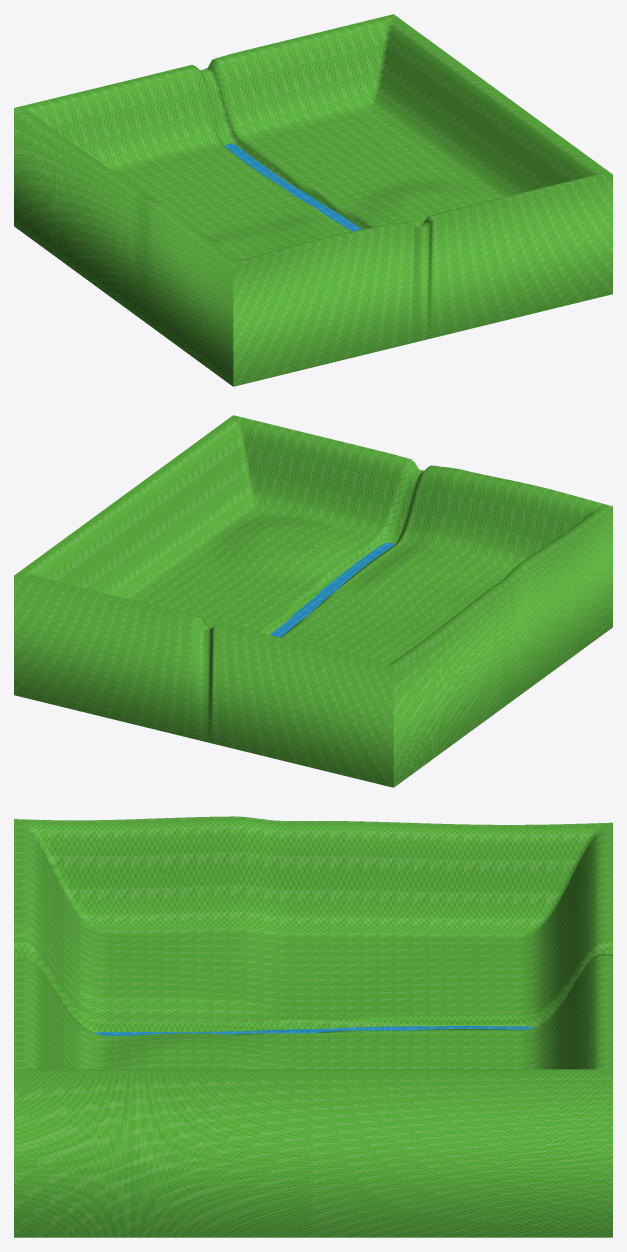
The model's file is asian_fantasy_terrain.glb.
3 renders of one model, top to bottom at view 1: azimuth 30°, elevation 25°; view 2: azimuth 150°, elevation 25°; view 3: azimuth 270°, elevation 25°, orthographic. The views are drawn at different scales.
Parts seen in each view (by area): view 1: ModelRoot; view 2: ModelRoot; view 3: ModelRoot.
Boxes of the visible parts, left/top/right/bottom form: ModelRoot: left=14, top=14, right=612, bottom=386; ModelRoot: left=14, top=415, right=612, bottom=787; ModelRoot: left=14, top=816, right=612, bottom=1237.
Size of the model in its own units: 240 by 74.29 by 240.
2 materials, 2 textured.
